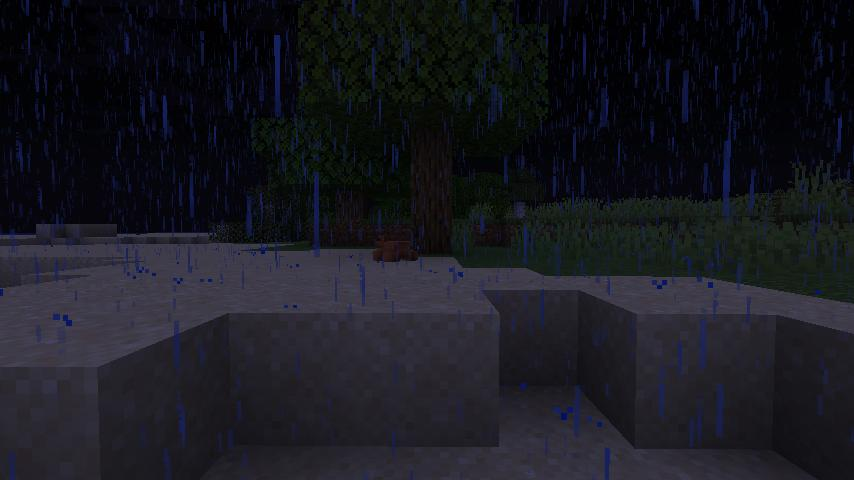frog: (369, 231, 422, 266)
